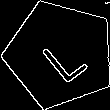L_NW: (31, 25, 89, 84)
